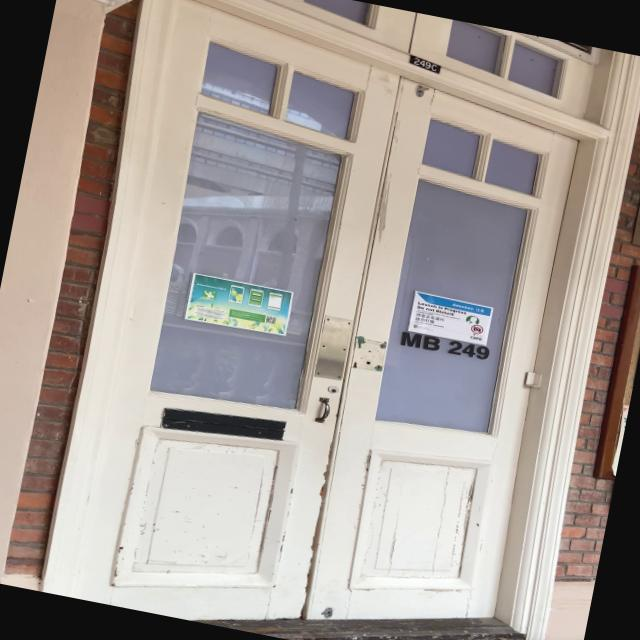room249c: (404, 52, 444, 74)
room249cWindow: (396, 328, 494, 364)
